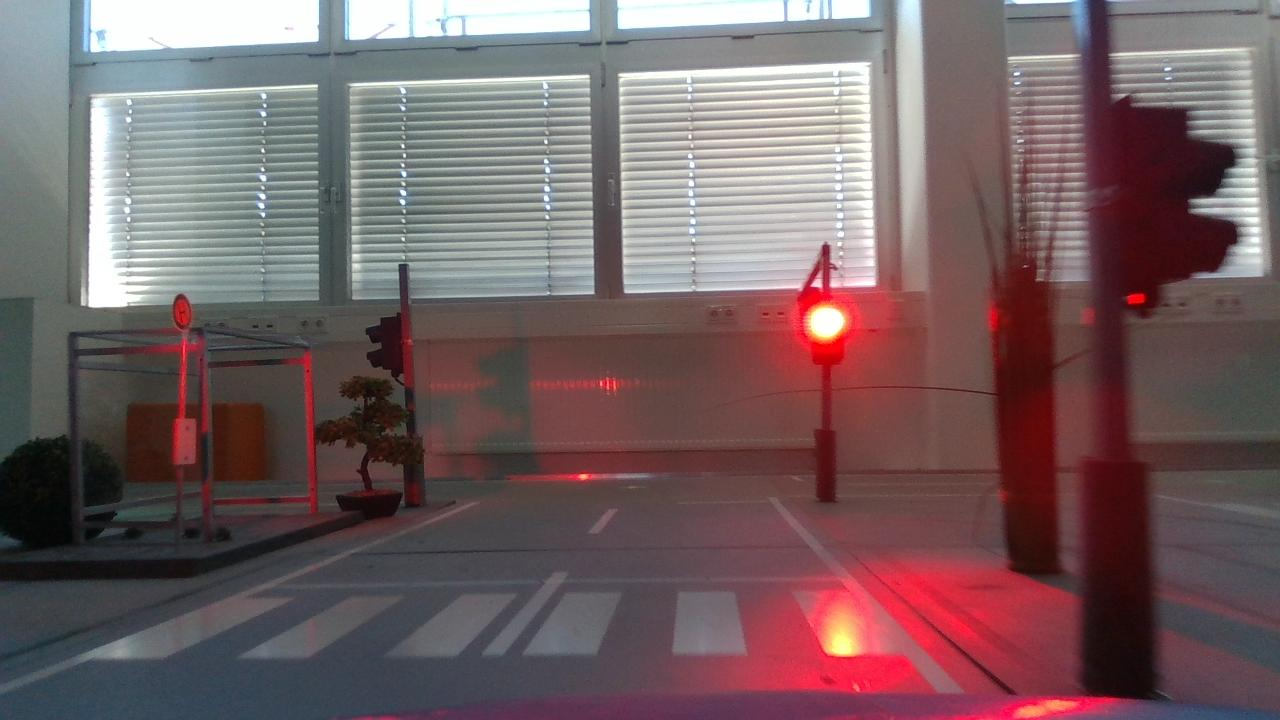traffic_light_red: (802, 287, 857, 379)
